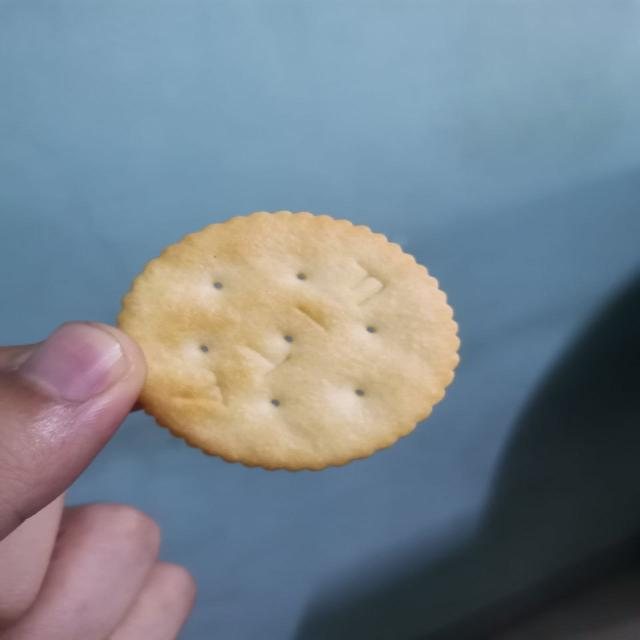intact biscuit: (115, 208, 462, 472)
